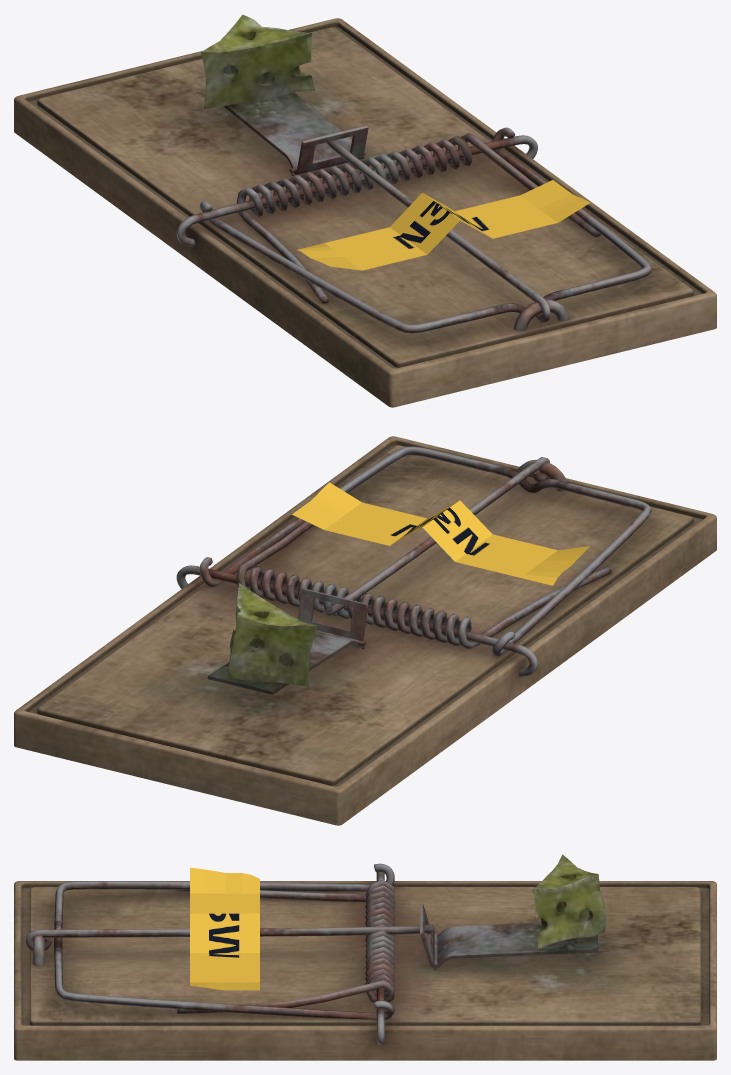
File: nyb_lostweekend_trap.glb
The picture shows the model from 3 angles, top to bottom: view 1: azimuth 30°, elevation 25°; view 2: azimuth 150°, elevation 25°; view 3: azimuth 270°, elevation 25°; orthographic projection. The views are drawn at different scales.
Visible parts, largest first — view 1: mousetrap, stk_lbl_a0dbc1b0b6.png; view 2: mousetrap, stk_lbl_a0dbc1b0b6.png; view 3: mousetrap, stk_lbl_a0dbc1b0b6.png.
Part boxes in pixels (bbox=[...]): mousetrap: bbox=[14, 14, 716, 407]; stk_lbl_a0dbc1b0b6.png: bbox=[297, 180, 590, 270]; mousetrap: bbox=[14, 436, 716, 825]; stk_lbl_a0dbc1b0b6.png: bbox=[292, 482, 590, 585]; mousetrap: bbox=[14, 854, 716, 1060]; stk_lbl_a0dbc1b0b6.png: bbox=[190, 867, 259, 990].
Size of the model in its own units: 0.055 by 0.0179 by 0.1004.
Materials: 2 (2 with a texture image).
